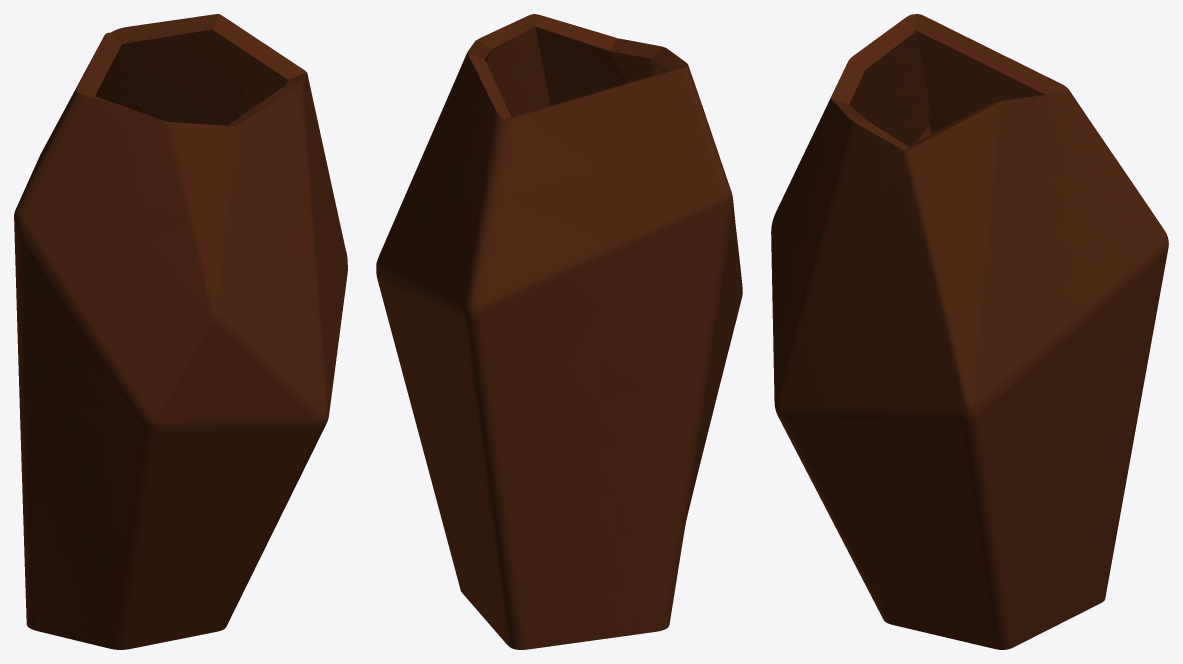
The picture shows the model from 3 angles, left to right: view 1: azimuth 30°, elevation 25°; view 2: azimuth 150°, elevation 25°; view 3: azimuth 270°, elevation 25°; orthographic projection. The views are drawn at different scales.
Parts seen in each view (by area): view 1: Без названия2; view 2: Без названия2; view 3: Без названия2.
Part boxes in pixels (left/top/right/bottom): Без названия2: left=14, top=14, right=347, bottom=649; Без названия2: left=376, top=14, right=742, bottom=649; Без названия2: left=771, top=14, right=1168, bottom=649.
Size of the model in its own units: 0.1641 by 0.2506 by 0.1653.
